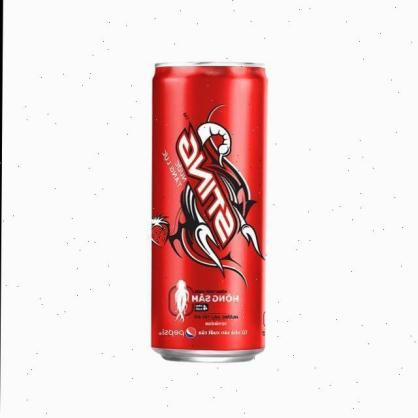can: (148, 58, 268, 365)
